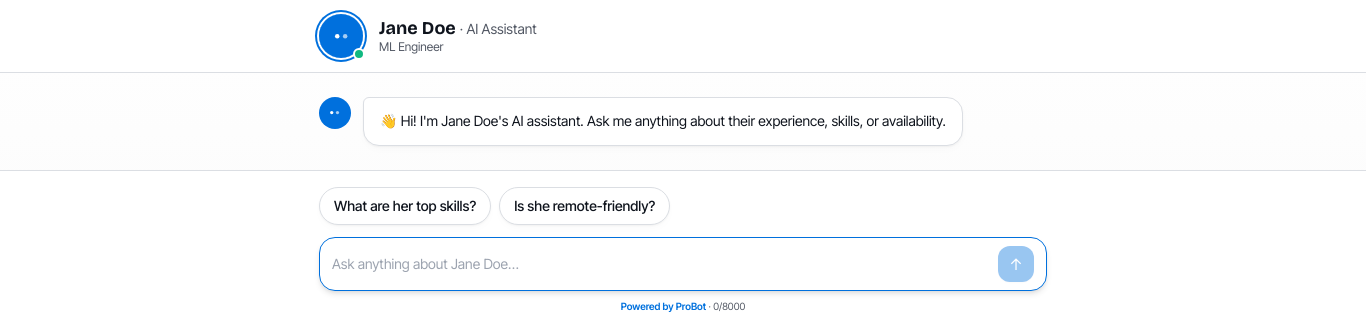
ChatWindow › shows the owner setup link (not the generic error) when a key is missing in preview mode
The width and height of the screenshot is (1366, 329).
Type "go" into the text box.
click(661, 264); type("go")  # box x1=332 y1=246 x2=990 y2=282
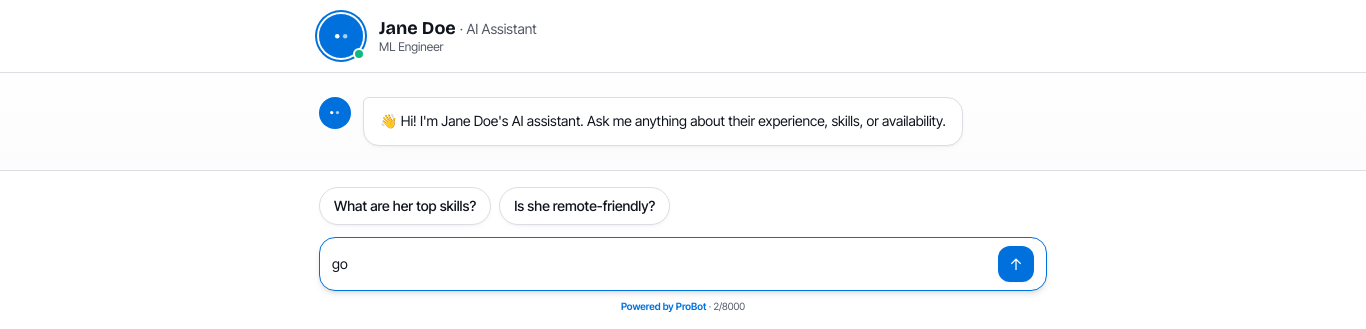
Click the button named "send message".
click(1016, 264)  # box x1=998 y1=246 x2=1034 y2=282
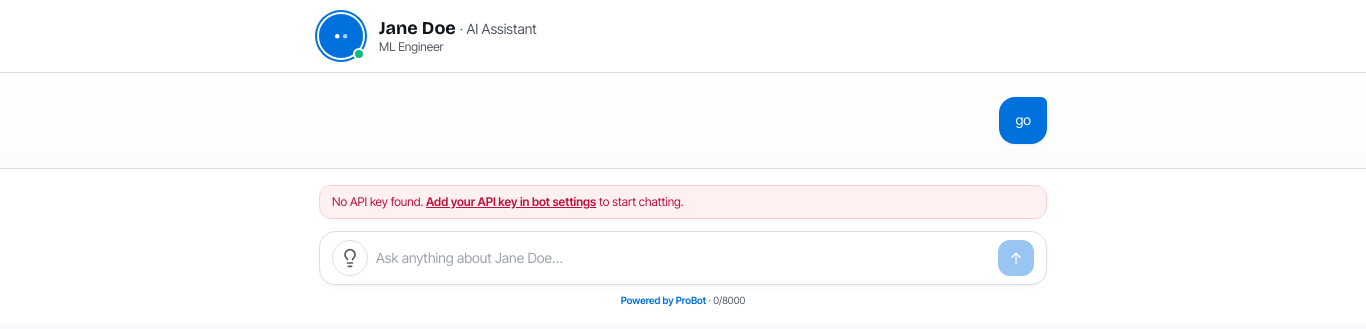
Result: the message shows "API key in bot settings" at x1=426 y1=194 x2=596 y2=209
